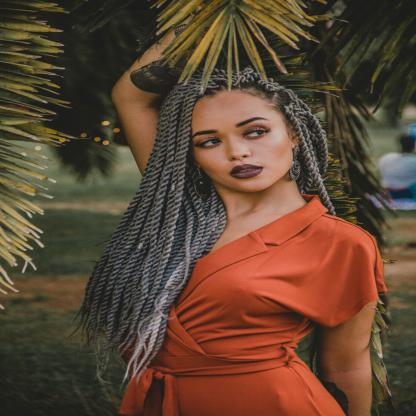Eye: (237, 126, 273, 140), (196, 134, 224, 150)
Mouth: (228, 162, 263, 180)
Nose: (224, 135, 252, 162)
